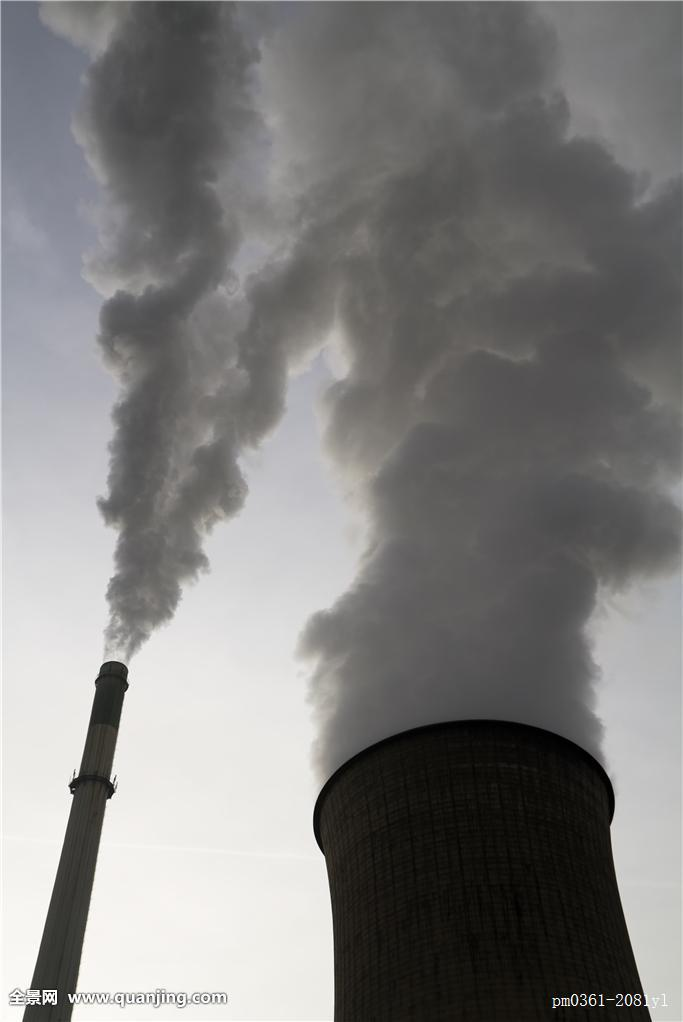dust: (301, 243, 676, 824), (81, 251, 256, 705)
